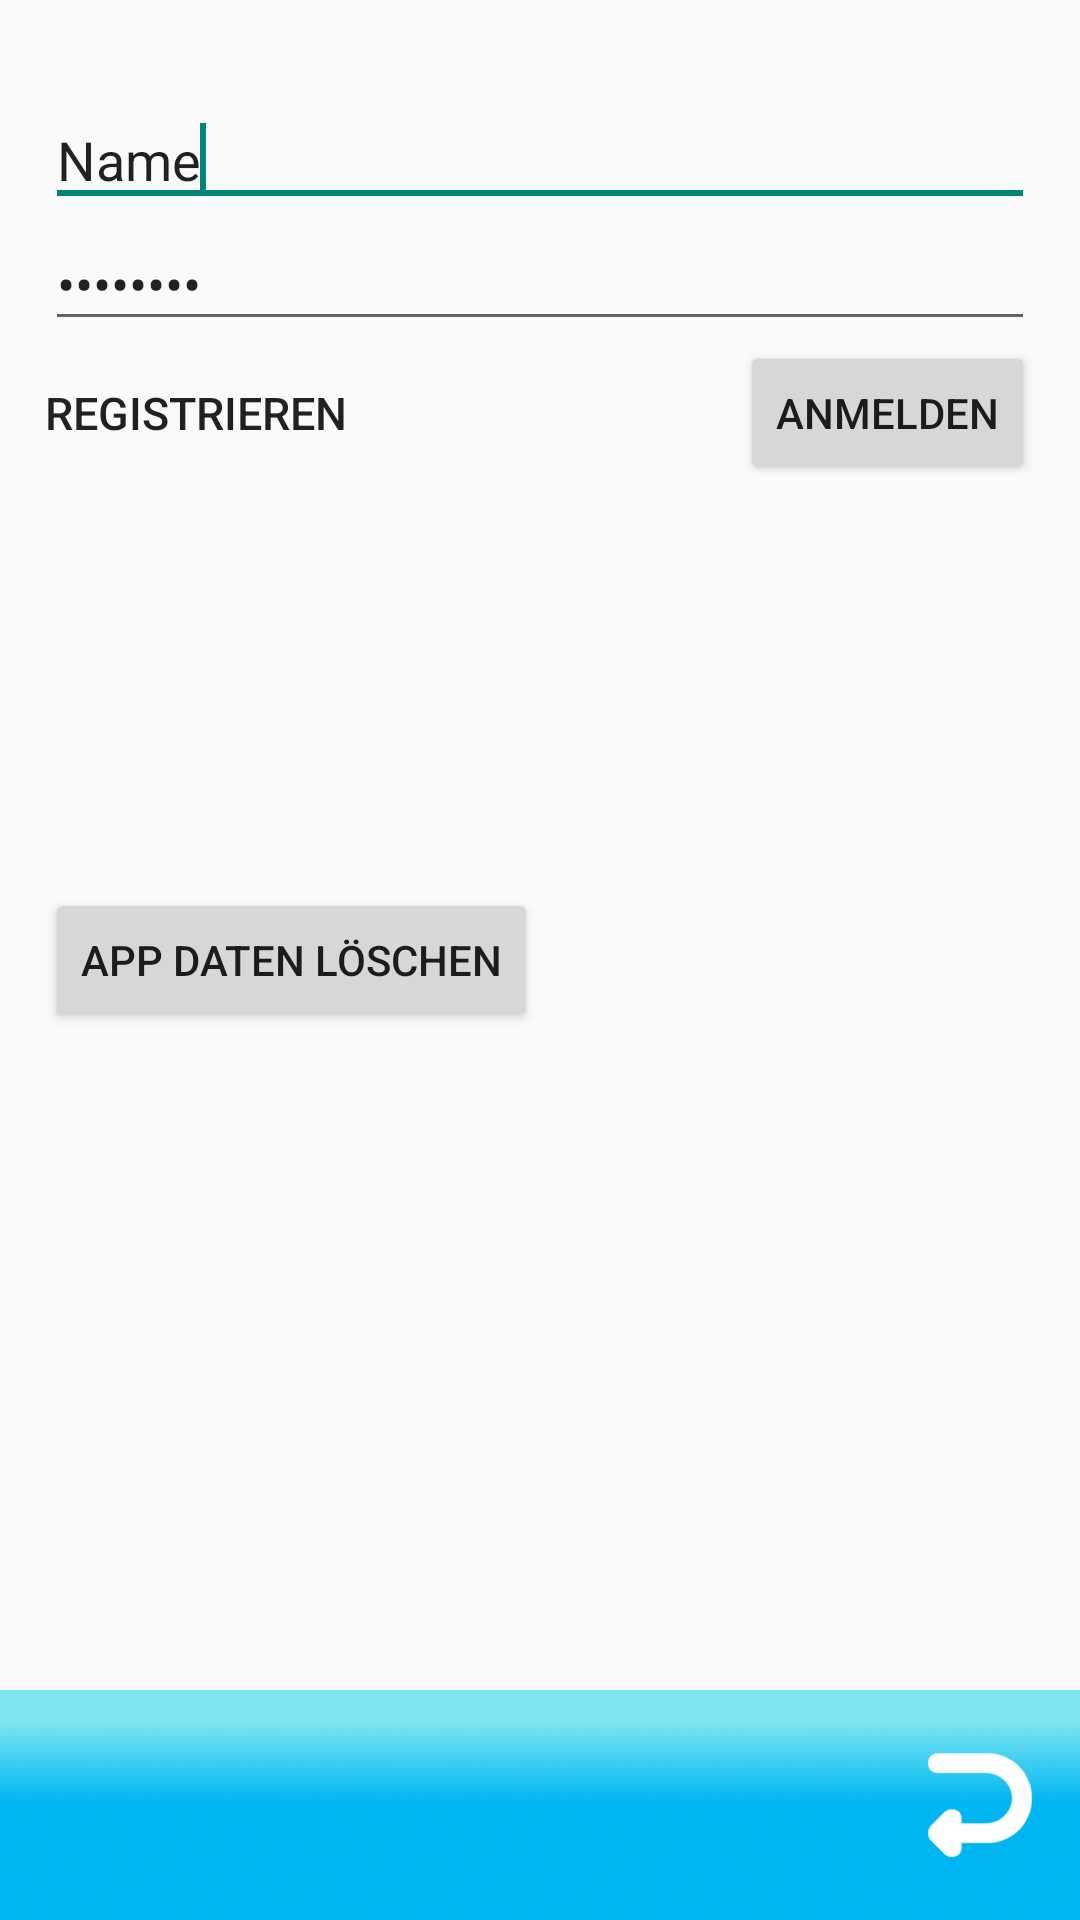

Icon click points for this 1080x1920 phone screenshot, format [x,y]:
backarrow: [980,1805]
